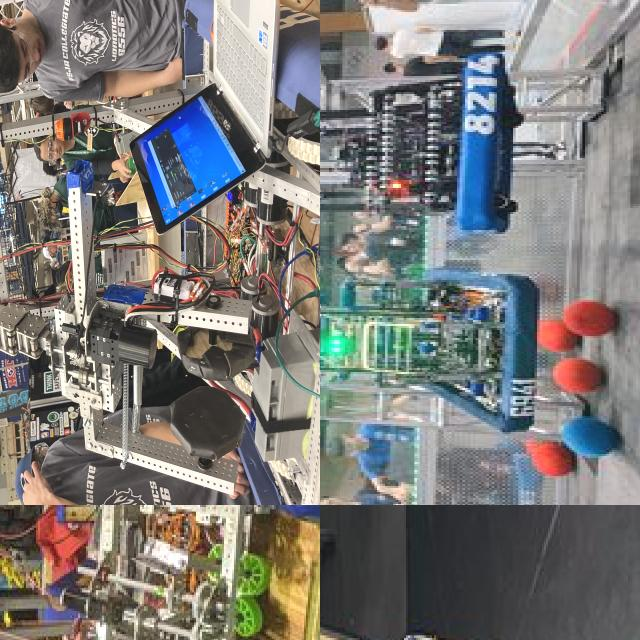FRC-Robots: (0, 0, 320, 505), (320, 18, 541, 234), (0, 505, 320, 640), (320, 257, 535, 423), (320, 593, 640, 640)
